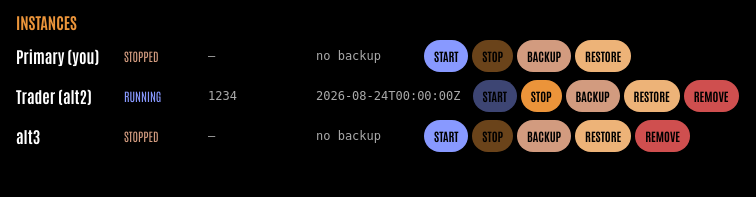
Scenario: InstancePanel › surfaces command errors
This screenshot has width=756, height=197.
Click the button "Start" in the row of "alt3": (446, 136) x1=424 y1=120 x2=468 y2=152
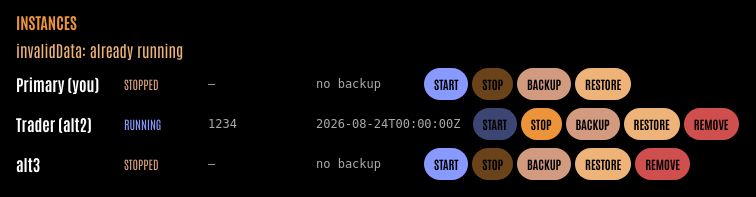
Expected: the text "already running" is shown, x1=16 y1=40 x2=183 y2=60
